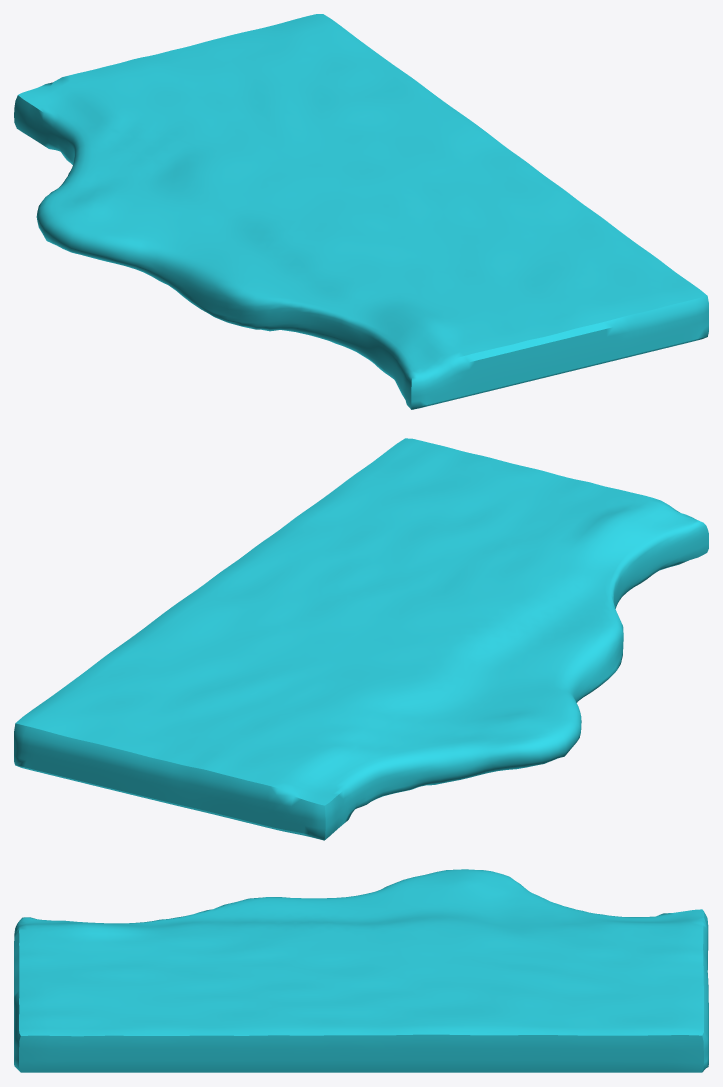
File: water.glb
3 renders of one model, top to bottom at view 1: azimuth 30°, elevation 25°; view 2: azimuth 150°, elevation 25°; view 3: azimuth 270°, elevation 25°, orthographic. The views are drawn at different scales.
Visible parts, largest first — view 1: water; view 2: water; view 3: water.
Boxes of the visible parts, left/top/right/bottom form: water: left=14, top=14, right=708, bottom=409; water: left=14, top=438, right=708, bottom=840; water: left=14, top=869, right=708, bottom=1072.
Size of the model in its own units: 6.01 by 0.6512 by 9.89.
